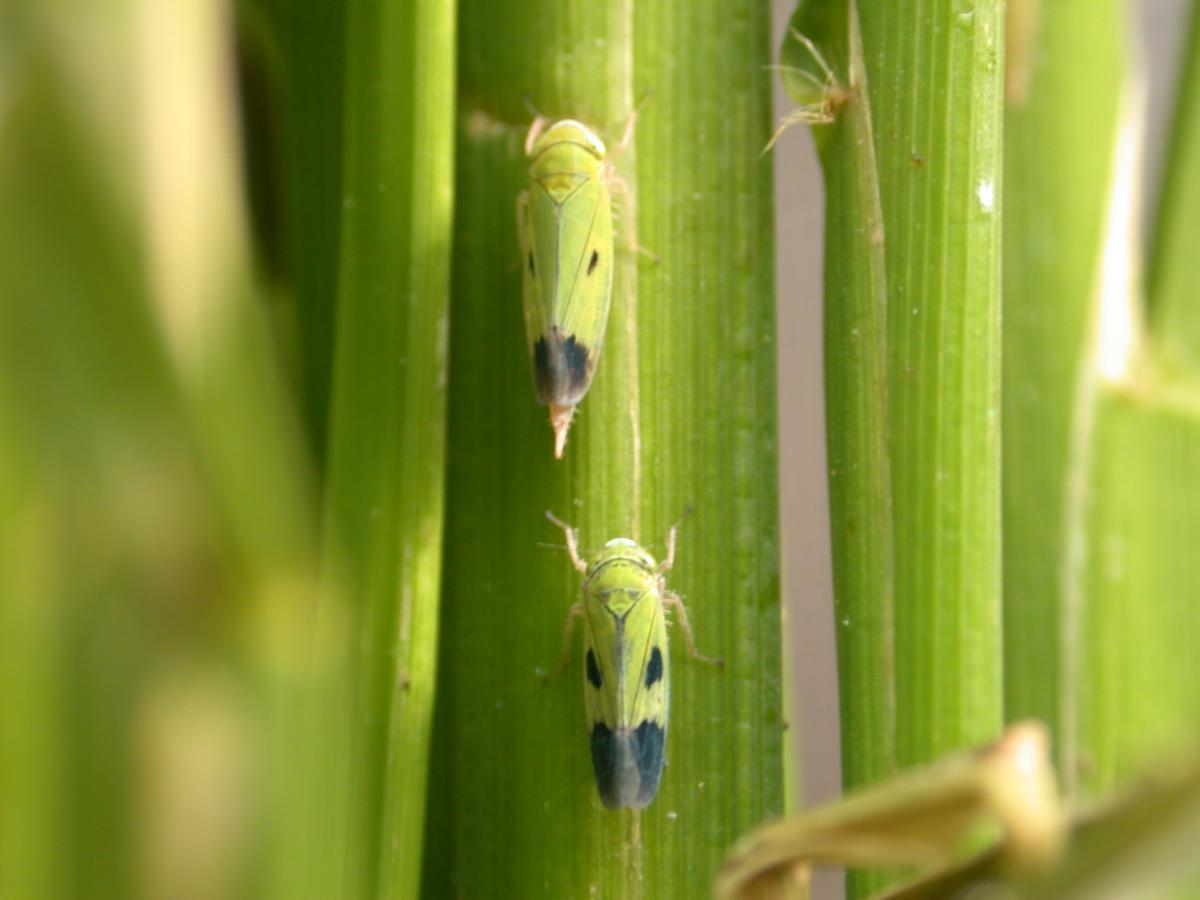pest: (510, 118, 617, 415), (576, 534, 676, 812), (772, 36, 854, 141)
